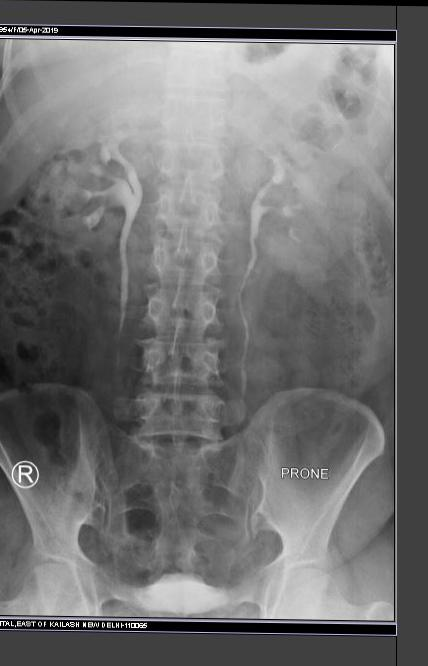left kidney: (233, 134, 354, 286)
right kidney: (24, 103, 148, 273)
vertebrae: (152, 186, 222, 229)
